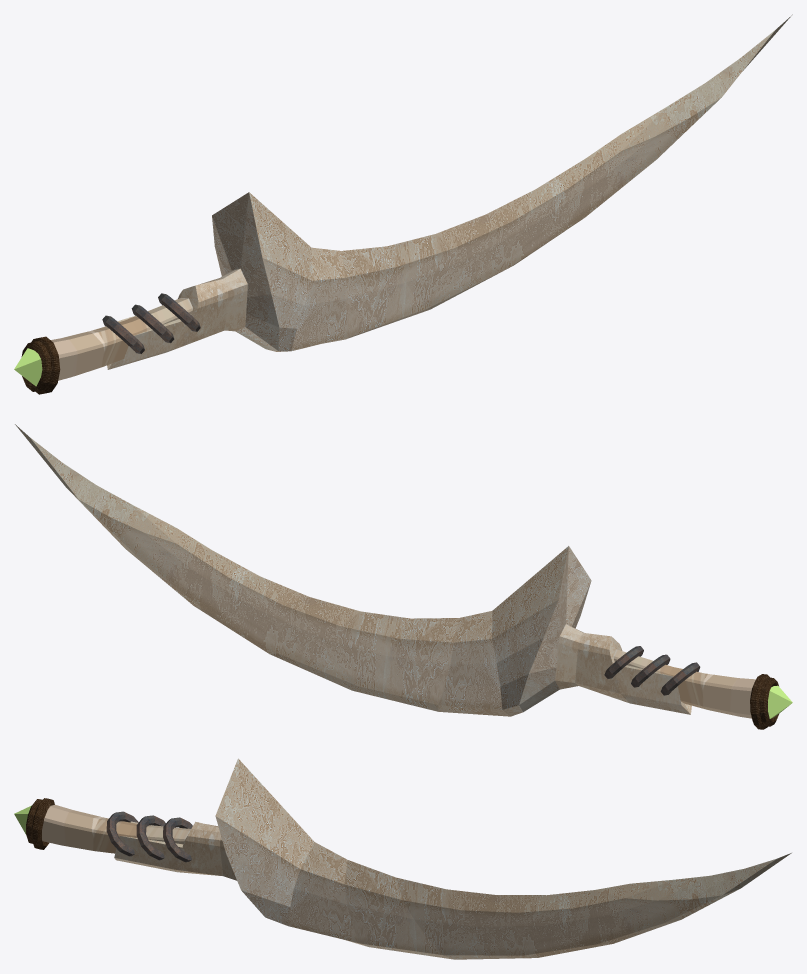
Rendered from weapon.fbx.
3 views of the same model, one above another, from view 1: azimuth 30°, elevation 25°; view 2: azimuth 150°, elevation 25°; view 3: azimuth 330°, elevation 25° (orthographic). The views are drawn at different scales.
Visible parts, largest first — view 1: Cube, Cube.002, Cube.001, Torus, Torus.003, Cube.003; view 2: Cube, Cube.002, Cube.001, Torus, Torus.003; view 3: Cube, Cube.002, Cube.001, Torus, Torus.003.
Boxes of the visible parts, box(x1,y1,x2,y2) form: Cube: box(212, 14, 792, 351); Cube.002: box(107, 268, 247, 369); Cube.001: box(51, 298, 192, 380); Torus: box(102, 293, 200, 353); Torus.003: box(21, 336, 60, 394); Cube.003: box(14, 348, 42, 386); Cube: box(15, 424, 591, 716); Cube.002: box(555, 624, 691, 714); Cube.001: box(613, 649, 755, 718); Torus: box(604, 646, 700, 695); Torus.003: box(750, 674, 778, 729); Cube: box(215, 758, 791, 959); Cube.002: box(114, 821, 236, 880); Cube.001: box(42, 804, 190, 853); Torus: box(106, 811, 192, 862); Torus.003: box(26, 798, 54, 849).
Bounding box in the file's own units: 1100 × 270 × 129.
